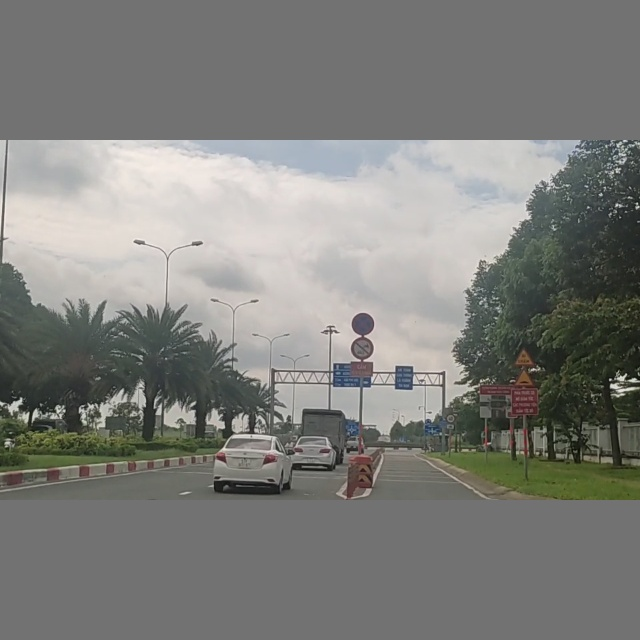P.111: (349, 335, 376, 359)
P.130: (348, 312, 376, 335)
W.221b: (514, 367, 534, 385)
W.245a: (512, 347, 537, 367)
